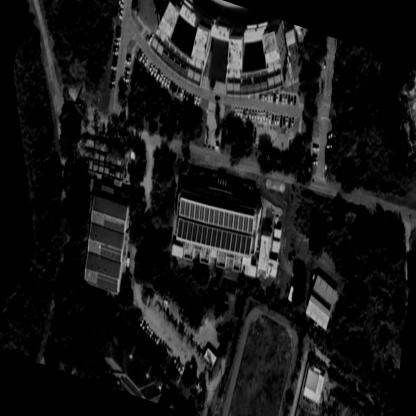solar-pv-panel: (177, 219, 252, 255), (180, 200, 253, 233), (96, 273, 118, 293), (100, 245, 121, 262), (103, 219, 125, 232)
